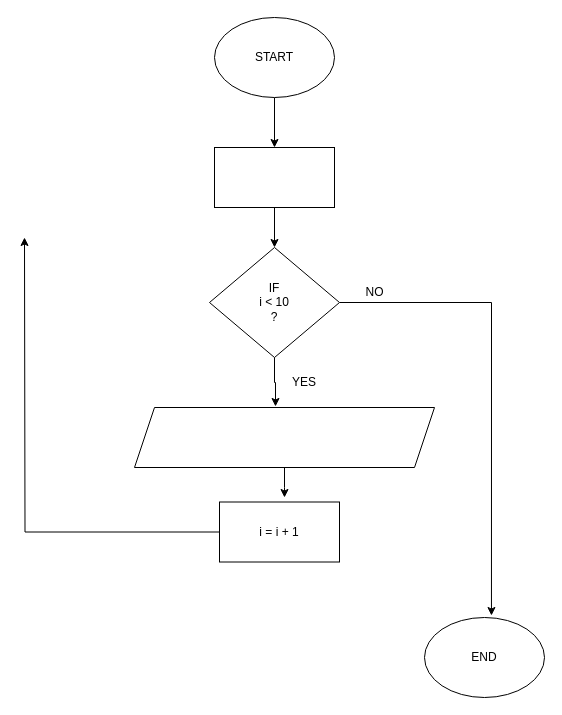
The diagram is 562 pixels wide and 715 high, and some of its shapes have lost their labels. The box of each missing label's shape, as (x1, y1, x2, y2) in pixels:
DISPLAY "Hello World": (134, 406, 434, 468)
i = 0: (214, 146, 334, 208)
